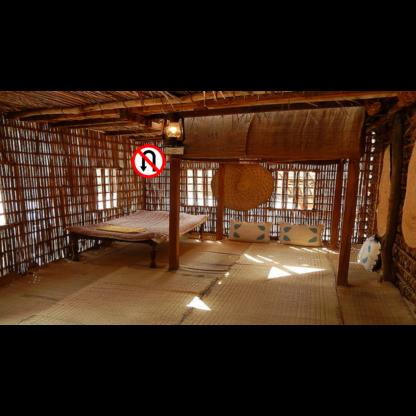R-5a: (131, 144, 166, 178)
